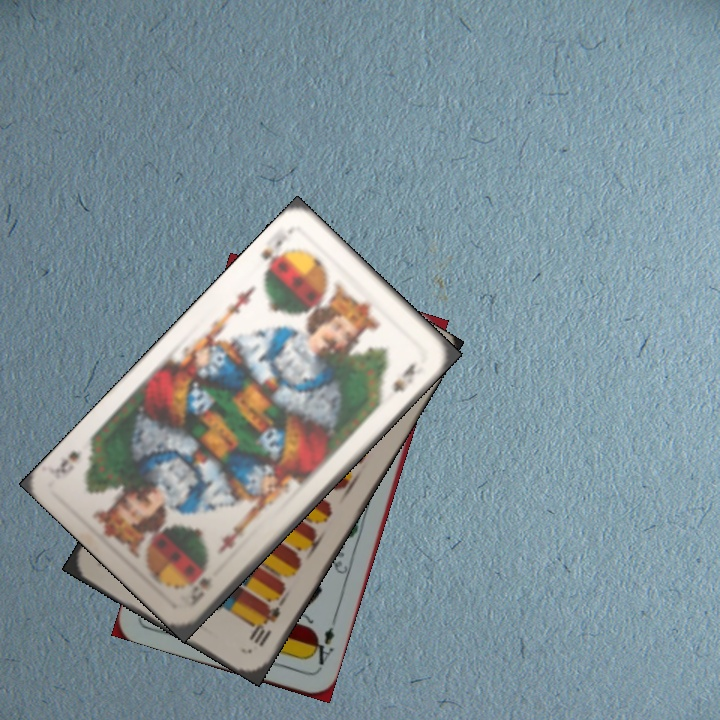E10: (245, 602, 283, 650)
EA: (306, 623, 337, 673)
SK: (256, 235, 293, 278), (186, 573, 213, 610)
